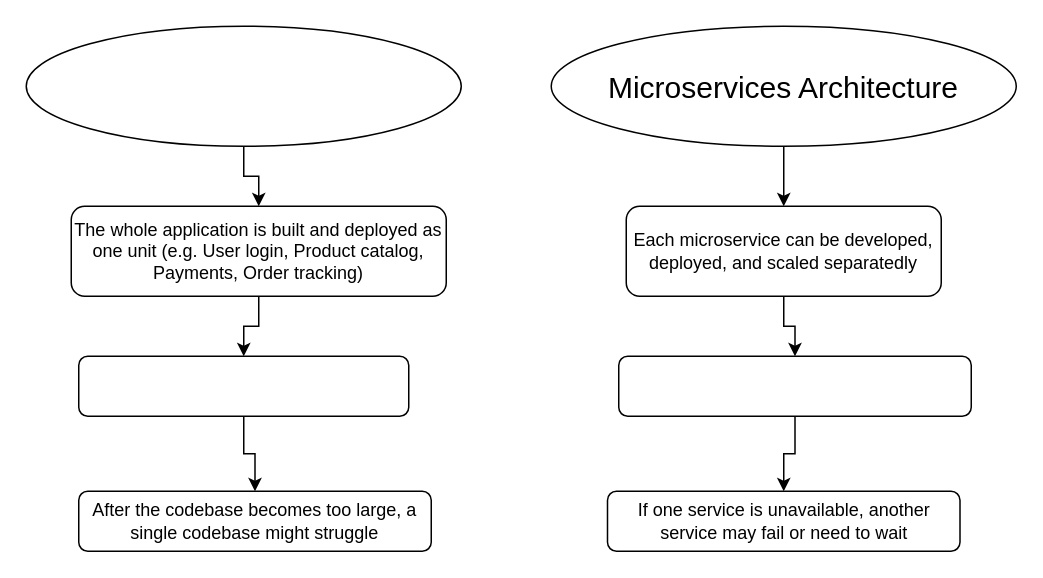
The diagram is 1043 pixels wide and 578 high, and some of its shapes have lost their labels. Each missing label, with the centre of its shape:
"Better for big team with separate services" goes at pixel 794 385.
"Monolithic Architecture" goes at pixel 243 85.
"One codebase for the small team" goes at pixel 243 385.
